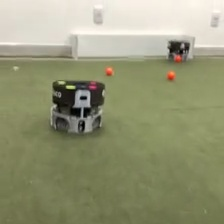ball: (104, 65, 114, 76), (166, 69, 176, 79), (174, 53, 183, 62)
goal: (69, 29, 196, 60)
robot: (49, 77, 107, 136), (166, 39, 191, 63)
